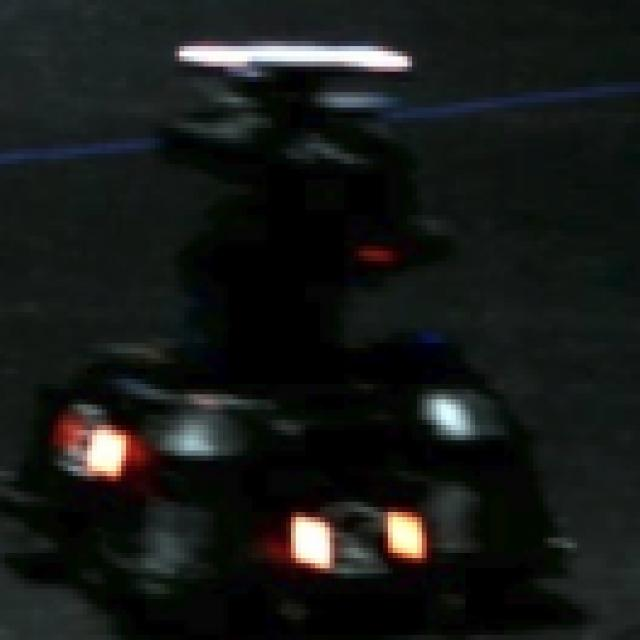Rs: (286, 496, 441, 578)
